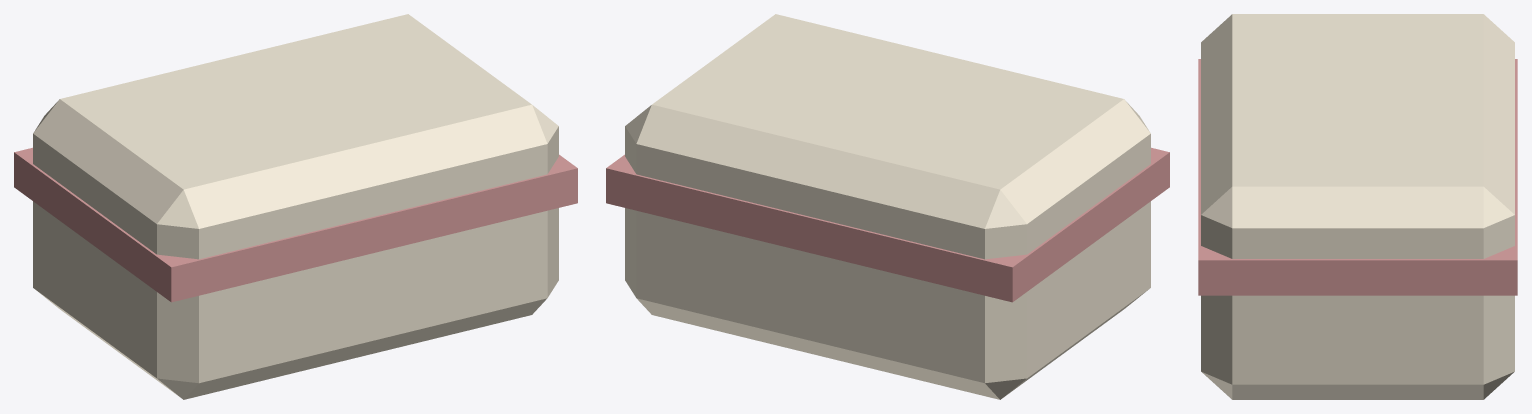
Rendered from lard.glb.
The picture shows the model from 3 angles, left to right: view 1: azimuth 30°, elevation 25°; view 2: azimuth 150°, elevation 25°; view 3: azimuth 270°, elevation 25°; orthographic projection.
Parts seen in each view (by area): view 1: lard; view 2: lard; view 3: lard.
Part boxes in pixels (bbox=[...]): lard: bbox=[14, 14, 577, 399]; lard: bbox=[606, 14, 1169, 399]; lard: bbox=[1198, 14, 1517, 399].
Size of the model in its own units: 0.182 by 0.09 by 0.122.
